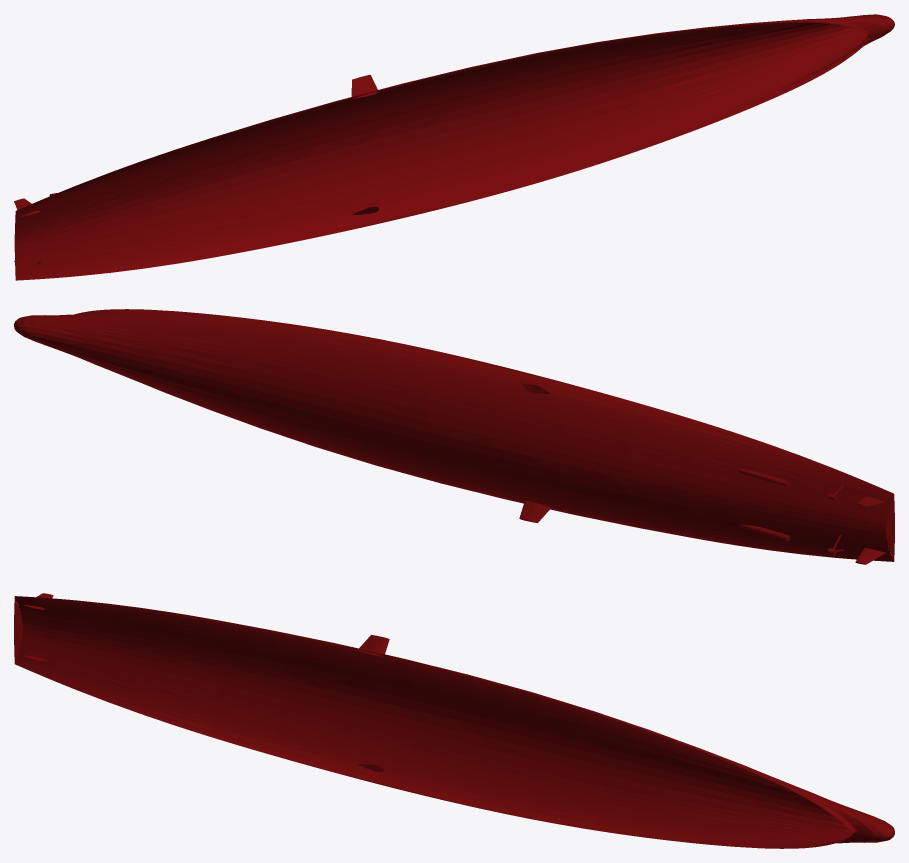
The model's file is hull_red.obj.
3 views of the same model, one above another, from view 1: azimuth 30°, elevation 25°; view 2: azimuth 150°, elevation 25°; view 3: azimuth 330°, elevation 25° (orthographic). The views are drawn at different scales.
Bounding box in the file's own units: 94.99 × 14.7 × 3.49.
